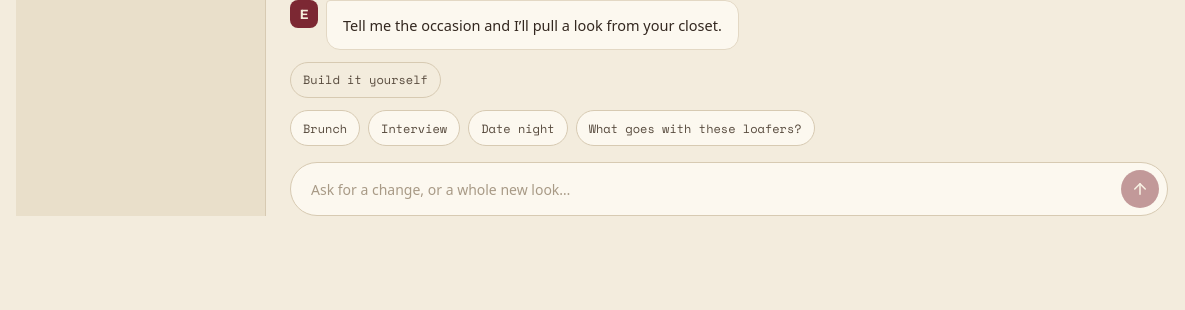
Stylist route › shows a friendly empty state (no photos) when the wardrobe is too small
The image size is (1185, 310).
Type "streetwear today" into the field named "message the stylist". click: (710, 190)
box: [309,179,1111,200]
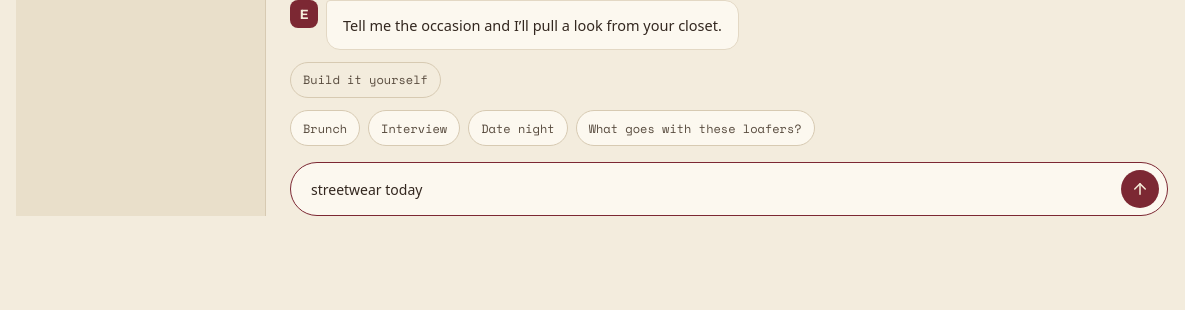
Click the button named "send". click: (1140, 190)
box: [1121,170,1159,208]
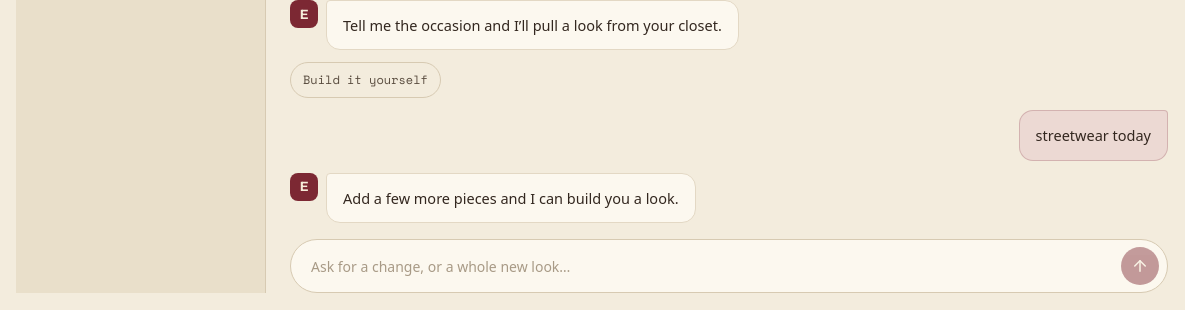
Result: the text "Add a few more pieces and I can build you a look." is shown at [326,173,696,223]
